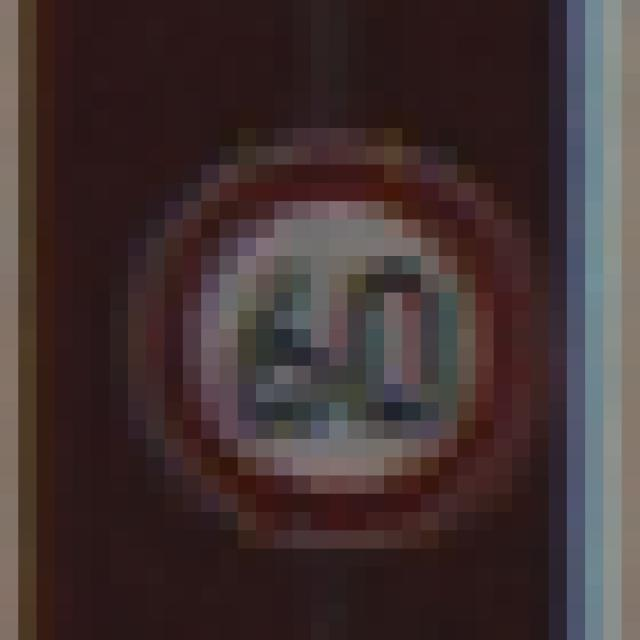Ograniczenie predkosci do 60: (148, 148, 532, 542)
